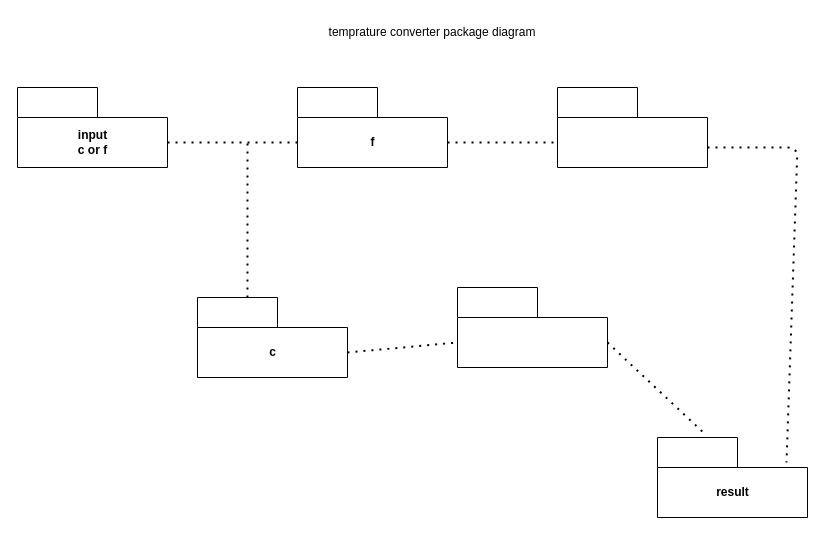
This 825x535 diagram has some shape labels left out. Each missing label, with the centre of its shape:
c to f: (x=632, y=127)
f to c: (x=532, y=327)
